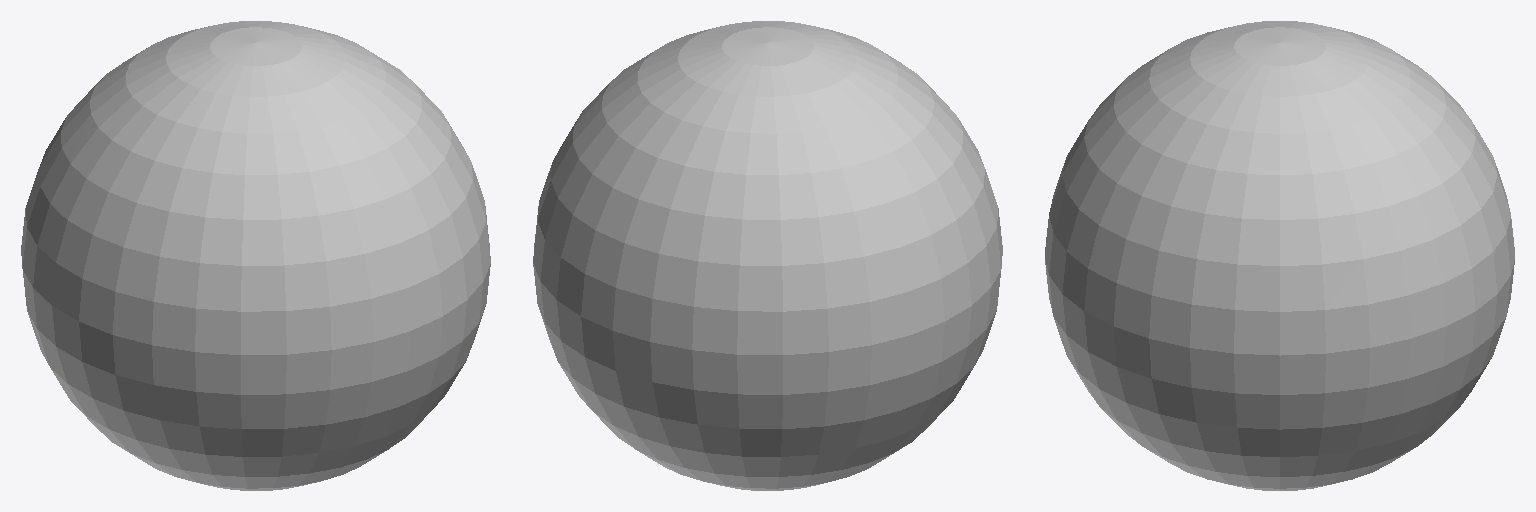
File: ball.obj
3 renders of one model, left to right at view 1: azimuth 30°, elevation 25°; view 2: azimuth 150°, elevation 25°; view 3: azimuth 270°, elevation 25°, orthographic.
Visible parts, largest first — view 1: Sphere; view 2: Sphere; view 3: Sphere.
Part boxes in pixels (x1,y1,x2,y2): Sphere: (21, 21, 490, 490); Sphere: (533, 21, 1002, 490); Sphere: (1045, 21, 1514, 490).
Size of the model in its own units: 0.12 by 0.12 by 0.12.